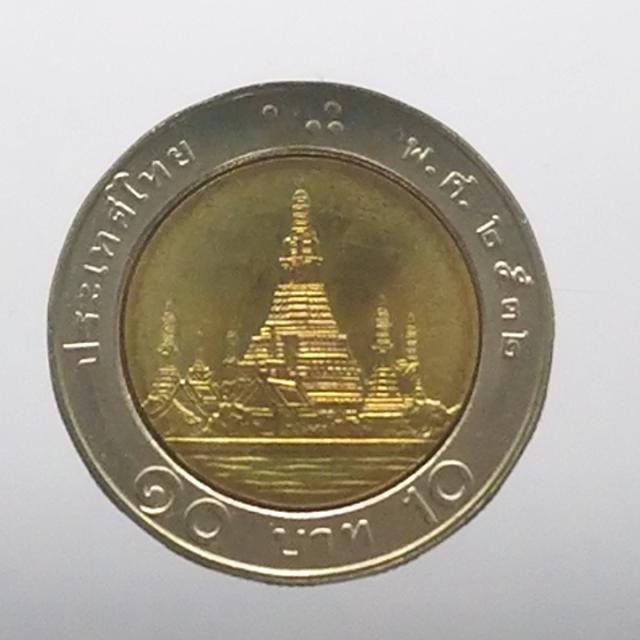10 Bath: (49, 80, 557, 591)
